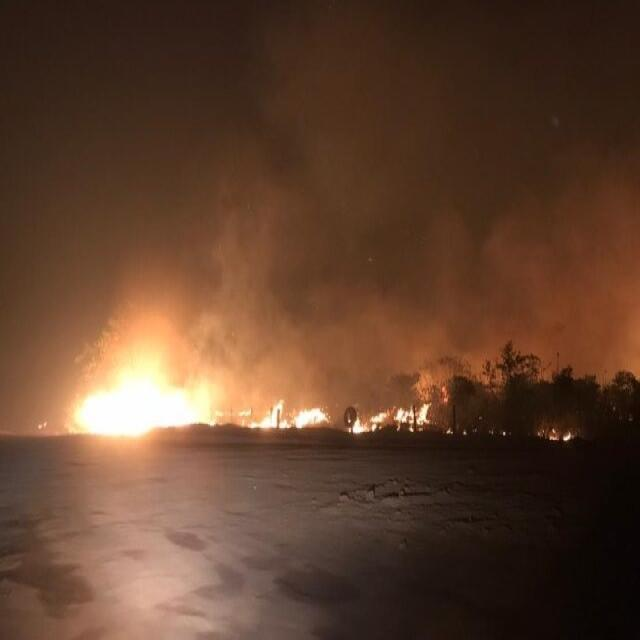Fire: (66, 346, 215, 434), (248, 403, 326, 428), (395, 400, 432, 426), (349, 412, 390, 432)
Smoke: (200, 8, 637, 414)
